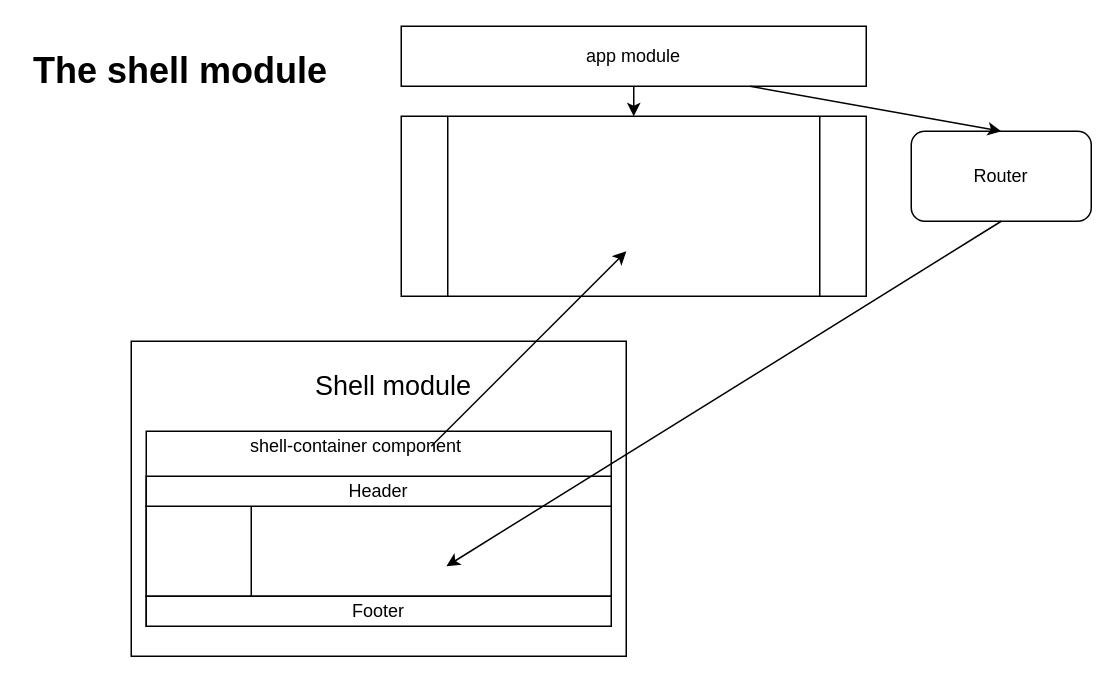
Some shapes in this 1118 by 683 pixel diagram are drawn without their labels. Here are the shapes that lost their labels. From the top down, the box of each, then its label:
(400, 115, 866, 296): Bootstrap component app.component.ts <shell-containner</shell-container>
(145, 505, 251, 596): sidebar
(250, 505, 611, 596): Main content component < router-outlet ></ router-outlet >
